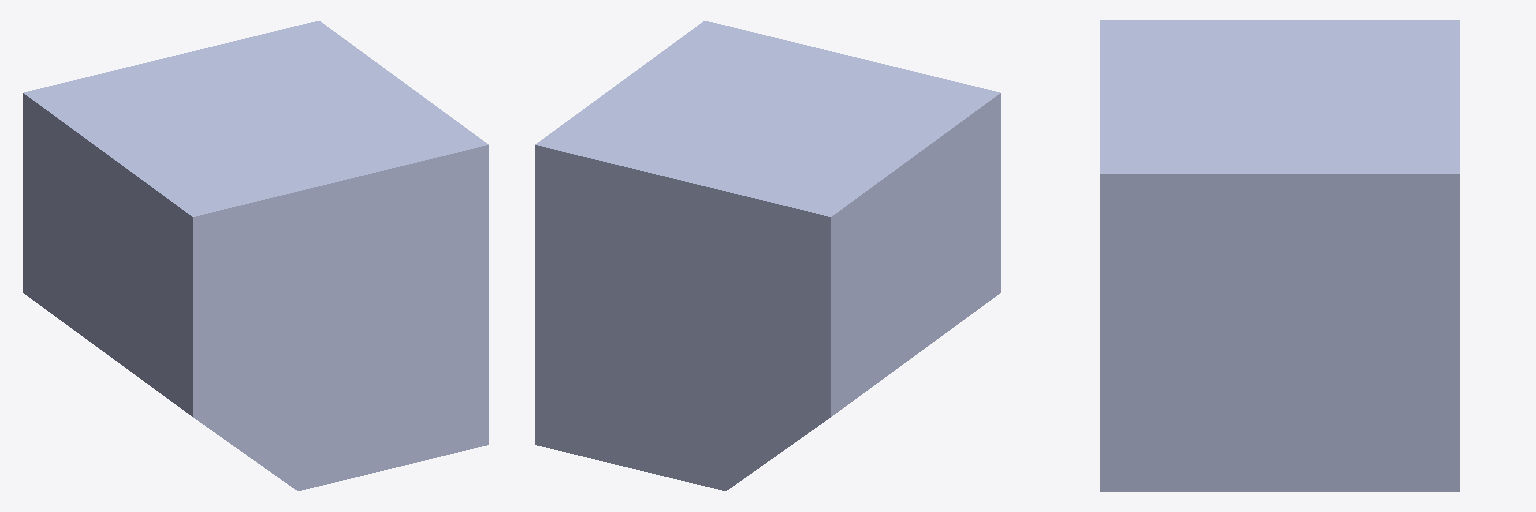
robot.urdf — Box6-4:
<?xml version="1.0" encoding="utf-8"?>
<!-- This URDF was automatically created by SolidWorks to URDF Exporter! Originally created by [author] ([email redacted]) 
     Commit Version: 1.6.0-1-g15f4949  Build Version: 1.6.7594.29634
     For more information, please see http://wiki.ros.org/sw_urdf_exporter -->
<robot
  name="Box6-4">
  <link
    name="base_link">
    <inertial>
      <origin
        xyz="-0.0737809523809524 0.077 0.0786666666666667"
        rpy="0 0 0" />
      <mass
        value="3.36875" />
      <inertia
        ixx="0.0125759715277778"
        ixy="5.04024938518557E-20"
        ixz="0.00076059423611111"
        iyy="0.0122632059305556"
        iyz="-3.07649425050656E-19"
        izz="0.0130027802361111" />
    </inertial>
    <visual>
      <origin
        xyz="0 0 0"
        rpy="0 0 0" />
      <geometry>
        <mesh
          filename="package://Box6-4/meshes/base_link.STL" />
      </geometry>
      <material
        name="">
        <color
          rgba="0.792156862745098 0.819607843137255 0.933333333333333 1" />
      </material>
    </visual>
    <collision>
      <origin
        xyz="0 0 0"
        rpy="0 0 0" />
      <geometry>
        <mesh
          filename="package://Box6-4/meshes/base_link.STL" />
      </geometry>
    </collision>
  </link>
</robot>

--- Render facts (derived) ---
3 views of the same robot in one strip: view 1: azimuth 30°, elevation 25°; view 2: azimuth 150°, elevation 25°; view 3: azimuth 270°, elevation 25° (orthographic).
Model Box6-4 with 1 links and 0 joints (none), rooted at base_link, posed every joint at zero.
Links seen in each view (by area): view 1: base_link; view 2: base_link; view 3: base_link.
Link boxes in pixels (box(x1,y1,x2,y2)): base_link: box(23, 21, 488, 490); base_link: box(535, 21, 1000, 490); base_link: box(1100, 20, 1459, 491).
Bounding box of the posed robot: 0.155 × 0.154 × 0.15 m (x, y, z).
Meshes: 1 distinct files referenced, 1 mesh visuals loaded (1 binary STL).